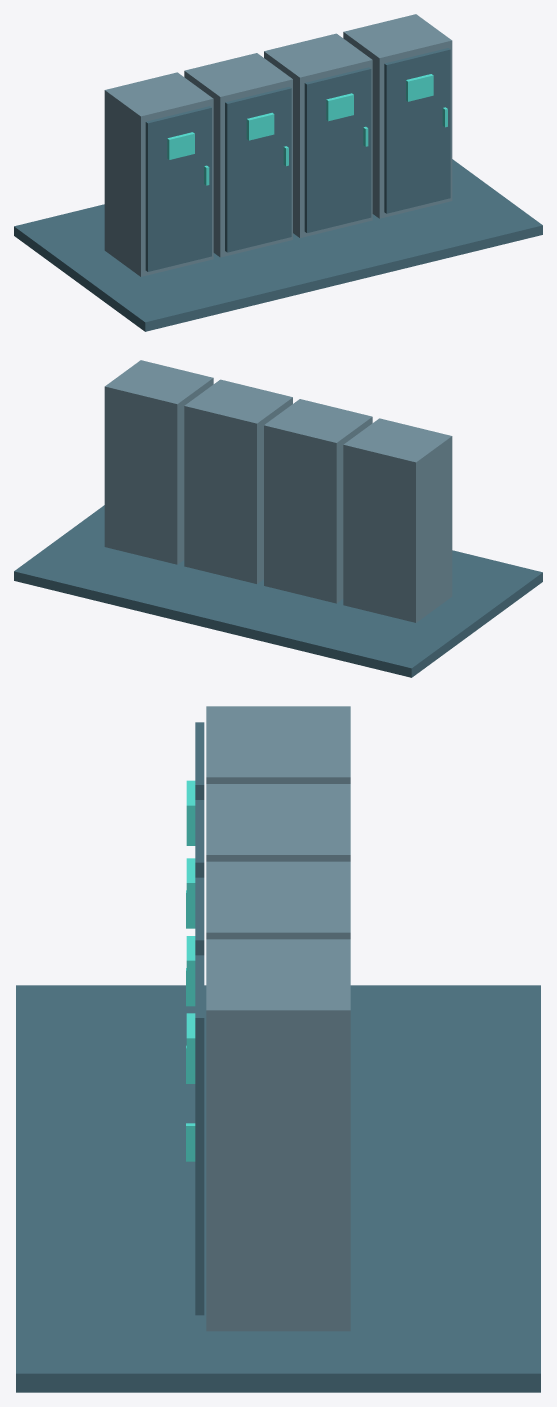
Rendered from switchgear.glb.
The picture shows the model from 3 angles, top to bottom: view 1: azimuth 30°, elevation 25°; view 2: azimuth 150°, elevation 25°; view 3: azimuth 270°, elevation 25°; orthographic projection. The views are drawn at different scales.
Parts seen in each view (by area): view 1: floor, cabinet-0, door-2, door-1, door-3, door-0, cabinet-3, cabinet-1, cabinet-2, meter-1, meter-0, meter-2 (+1 smaller); view 2: floor, cabinet-0, cabinet-3, cabinet-1, cabinet-2; view 3: floor, cabinet-3, cabinet-2, cabinet-0, cabinet-1, door-3.
Part boxes in pixels (<box>): floor: <box>14,159,542,331</box>; cabinet-0: <box>104,72,213,276</box>; door-2: <box>304,67,371,232</box>; door-1: <box>225,86,291,252</box>; door-3: <box>384,48,450,213</box>; door-0: <box>145,106,211,271</box>; cabinet-3: <box>343,14,452,218</box>; cabinet-1: <box>184,53,292,257</box>; cabinet-2: <box>264,33,372,237</box>; meter-1: <box>246,112,274,140</box>; meter-0: <box>167,132,194,159</box>; meter-2: <box>326,93,353,121</box>; floor: <box>14,505,542,677</box>; cabinet-0: <box>343,418,452,622</box>; cabinet-3: <box>104,360,213,564</box>; cabinet-1: <box>264,399,372,603</box>; cabinet-2: <box>184,379,292,583</box>; floor: <box>16,985,540,1392</box>; cabinet-3: <box>206,939,350,1331</box>; cabinet-2: <box>206,861,350,939</box>; cabinet-0: <box>206,706,350,783</box>; cabinet-1: <box>206,784,350,861</box>; door-3: <box>195,955,204,1315</box>.
Size of the model in its own units: 7 by 2.86 by 4.
